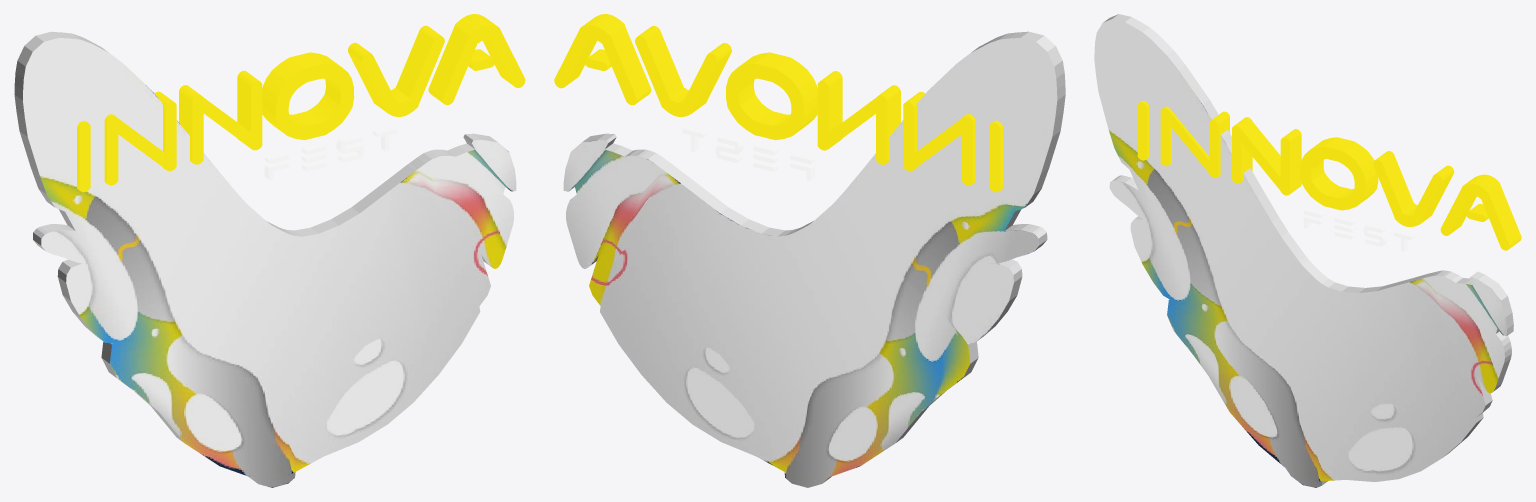
The model's file is innova.glb.
3 renders of one model, left to right at view 1: azimuth 30°, elevation 25°; view 2: azimuth 150°, elevation 25°; view 3: azimuth 330°, elevation 25°, orthographic. The views are drawn at different scales.
Parts seen in each view (by area): view 1: Cube, Cube.008, Cube.015, Cube.010, Cube.006, Cube.003, Cube.001; view 2: Cube, Cube.008, Cube.015, Cube.010, Cube.006, Cube.003, Cube.001; view 3: Cube, Cube.008, Cube.006, Cube.015, Cube.010, Cube.003, Cube.001.
Boxes of the visible parts, x1,y1,x2,y2 form: Cube: [14, 31, 516, 487]; Cube.008: [262, 52, 354, 139]; Cube.015: [428, 14, 525, 105]; Cube.010: [348, 25, 444, 116]; Cube.006: [179, 70, 262, 164]; Cube.003: [104, 91, 176, 185]; Cube.001: [77, 121, 90, 192]; Cube: [563, 31, 1065, 487]; Cube.008: [726, 52, 817, 140]; Cube.015: [554, 14, 651, 105]; Cube.010: [635, 25, 731, 116]; Cube.006: [817, 71, 900, 164]; Cube.003: [903, 91, 975, 185]; Cube.001: [989, 120, 1002, 192]; Cube: [1094, 14, 1513, 487]; Cube.008: [1300, 137, 1378, 210]; Cube.006: [1232, 117, 1301, 195]; Cube.015: [1440, 174, 1521, 250]; Cube.010: [1373, 151, 1454, 226]; Cube.003: [1160, 106, 1229, 177]; Cube.001: [1137, 101, 1148, 160].
Bounding box in the file's own units: 3.44 × 3.31 × 0.1828.
Materials: 4 (1 with a texture image).
